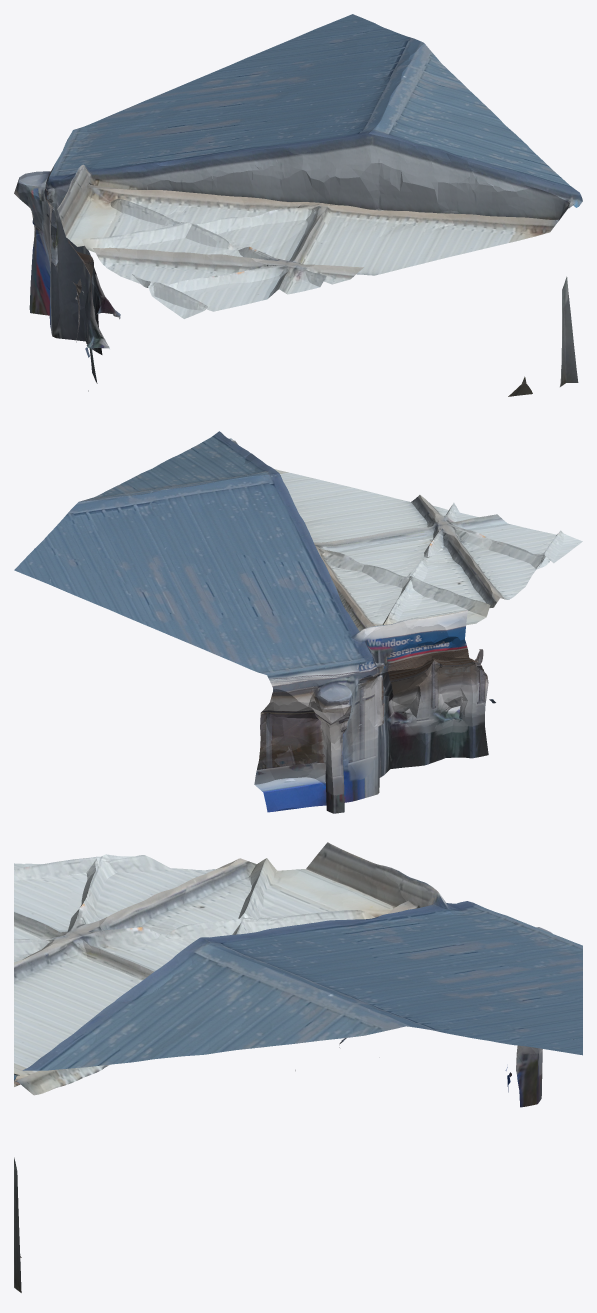
The picture shows the model from 3 angles, top to bottom: view 1: azimuth 30°, elevation 25°; view 2: azimuth 150°, elevation 25°; view 3: azimuth 270°, elevation 25°; orthographic projection. The views are drawn at different scales.
Size of the model in its own units: 8.36 by 4.54 by 8.36.
3 materials, 3 textured.
